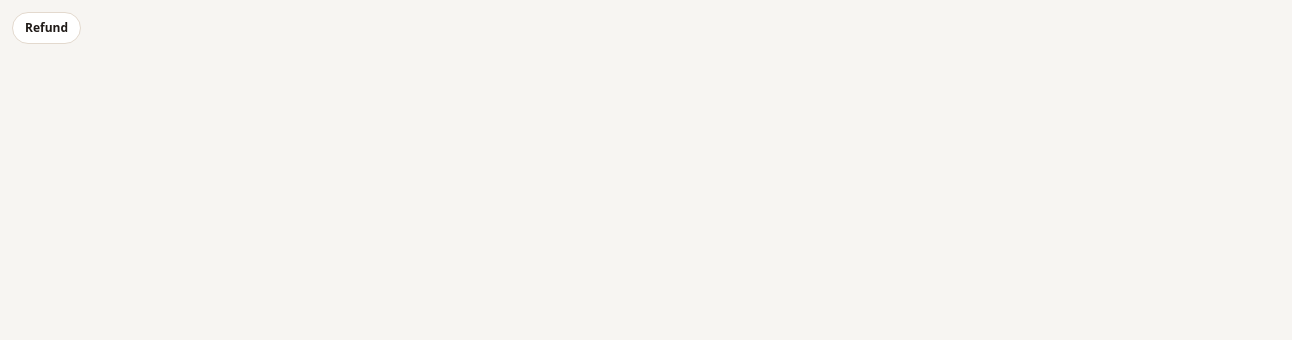
RefundPanel reason field › keeps the review button disabled until a reason is typed
Click the button "Refund". click: (46, 28)
box: [12,12,81,44]
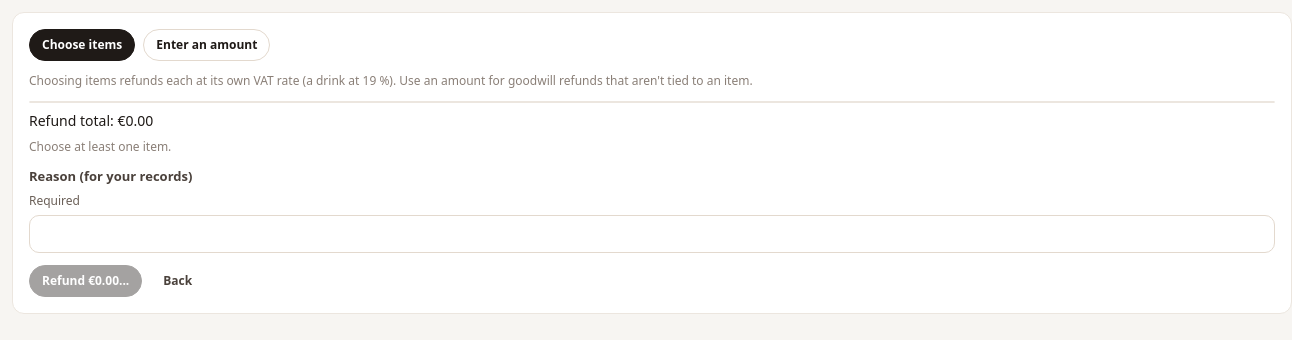
Click the button "Enter an amount". click: (207, 45)
box: [143,29,270,61]
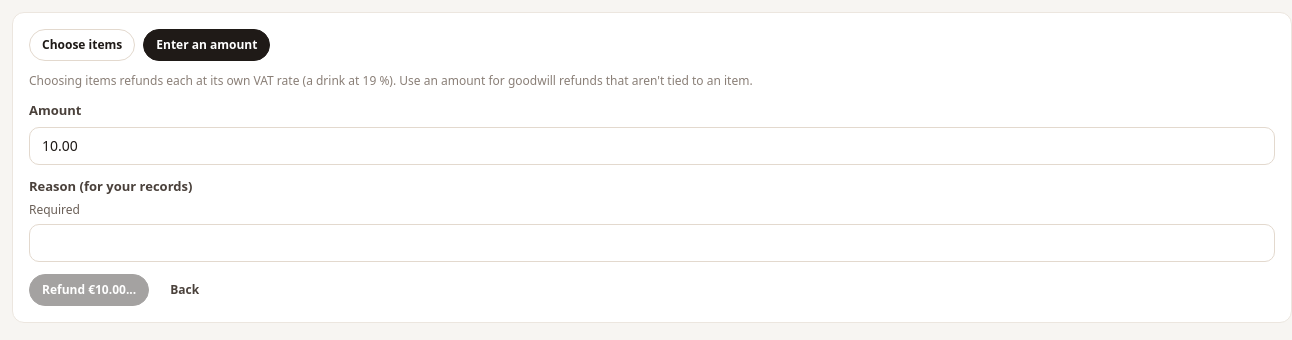
Now the button "Refund €10.00..." is disabled, box [29,274,149,306]
Type "Cold food" into the field labelled "Reason (for your records)". click: (652, 243)
box: [29,224,1275,262]
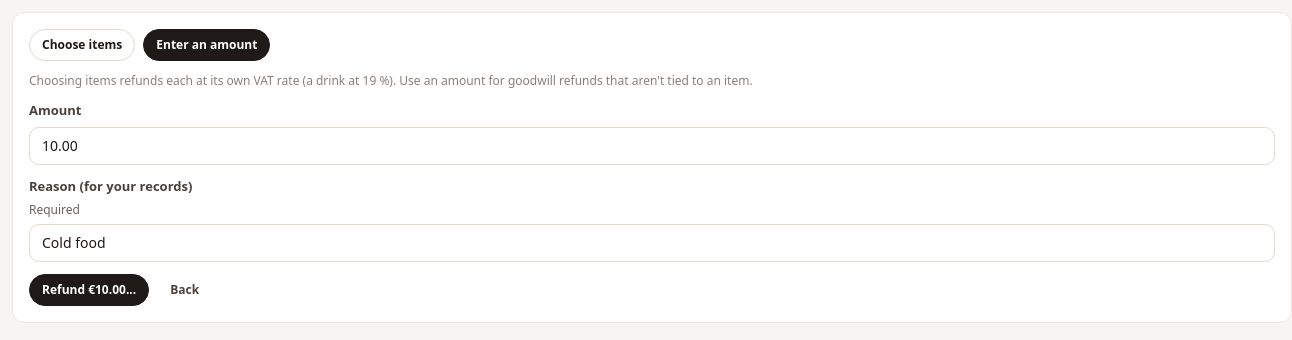
Now the button "Refund €10.00..." is enabled, box [29,274,149,306]
